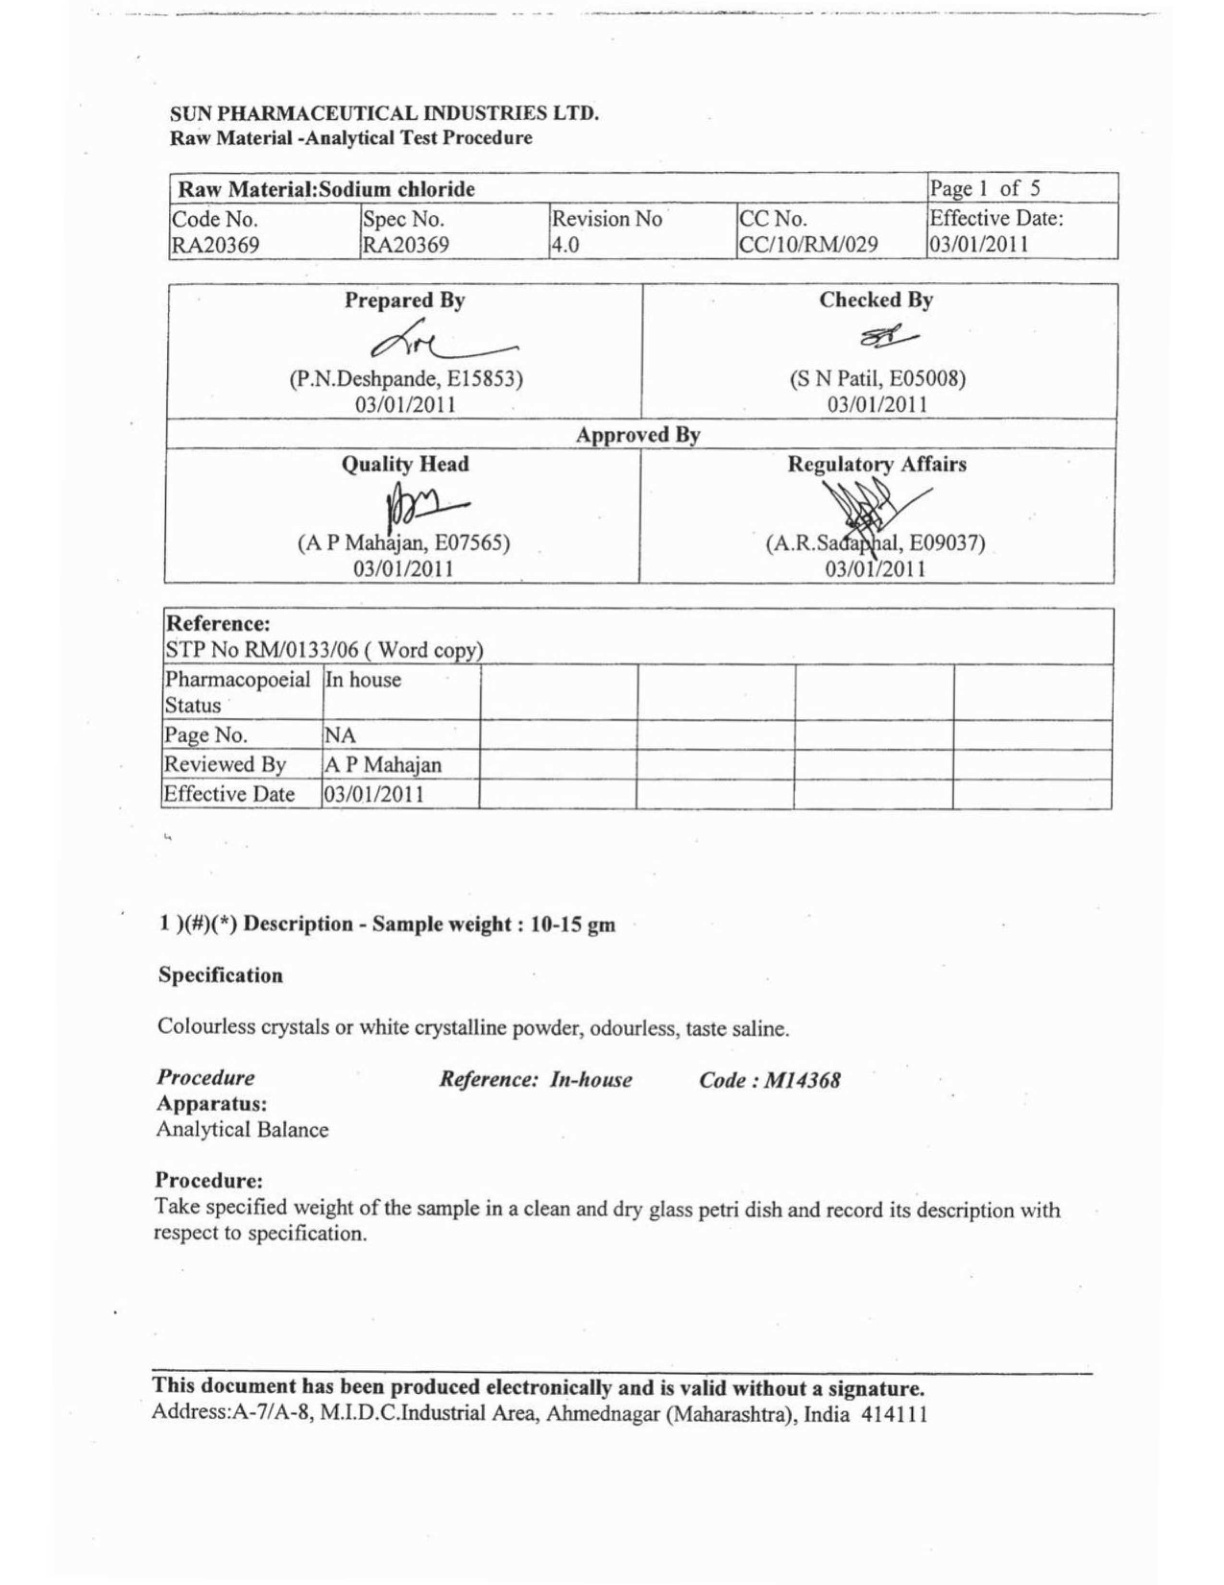merged_cells: (162, 282, 1120, 586), (159, 605, 1115, 812), (167, 170, 1120, 260)
